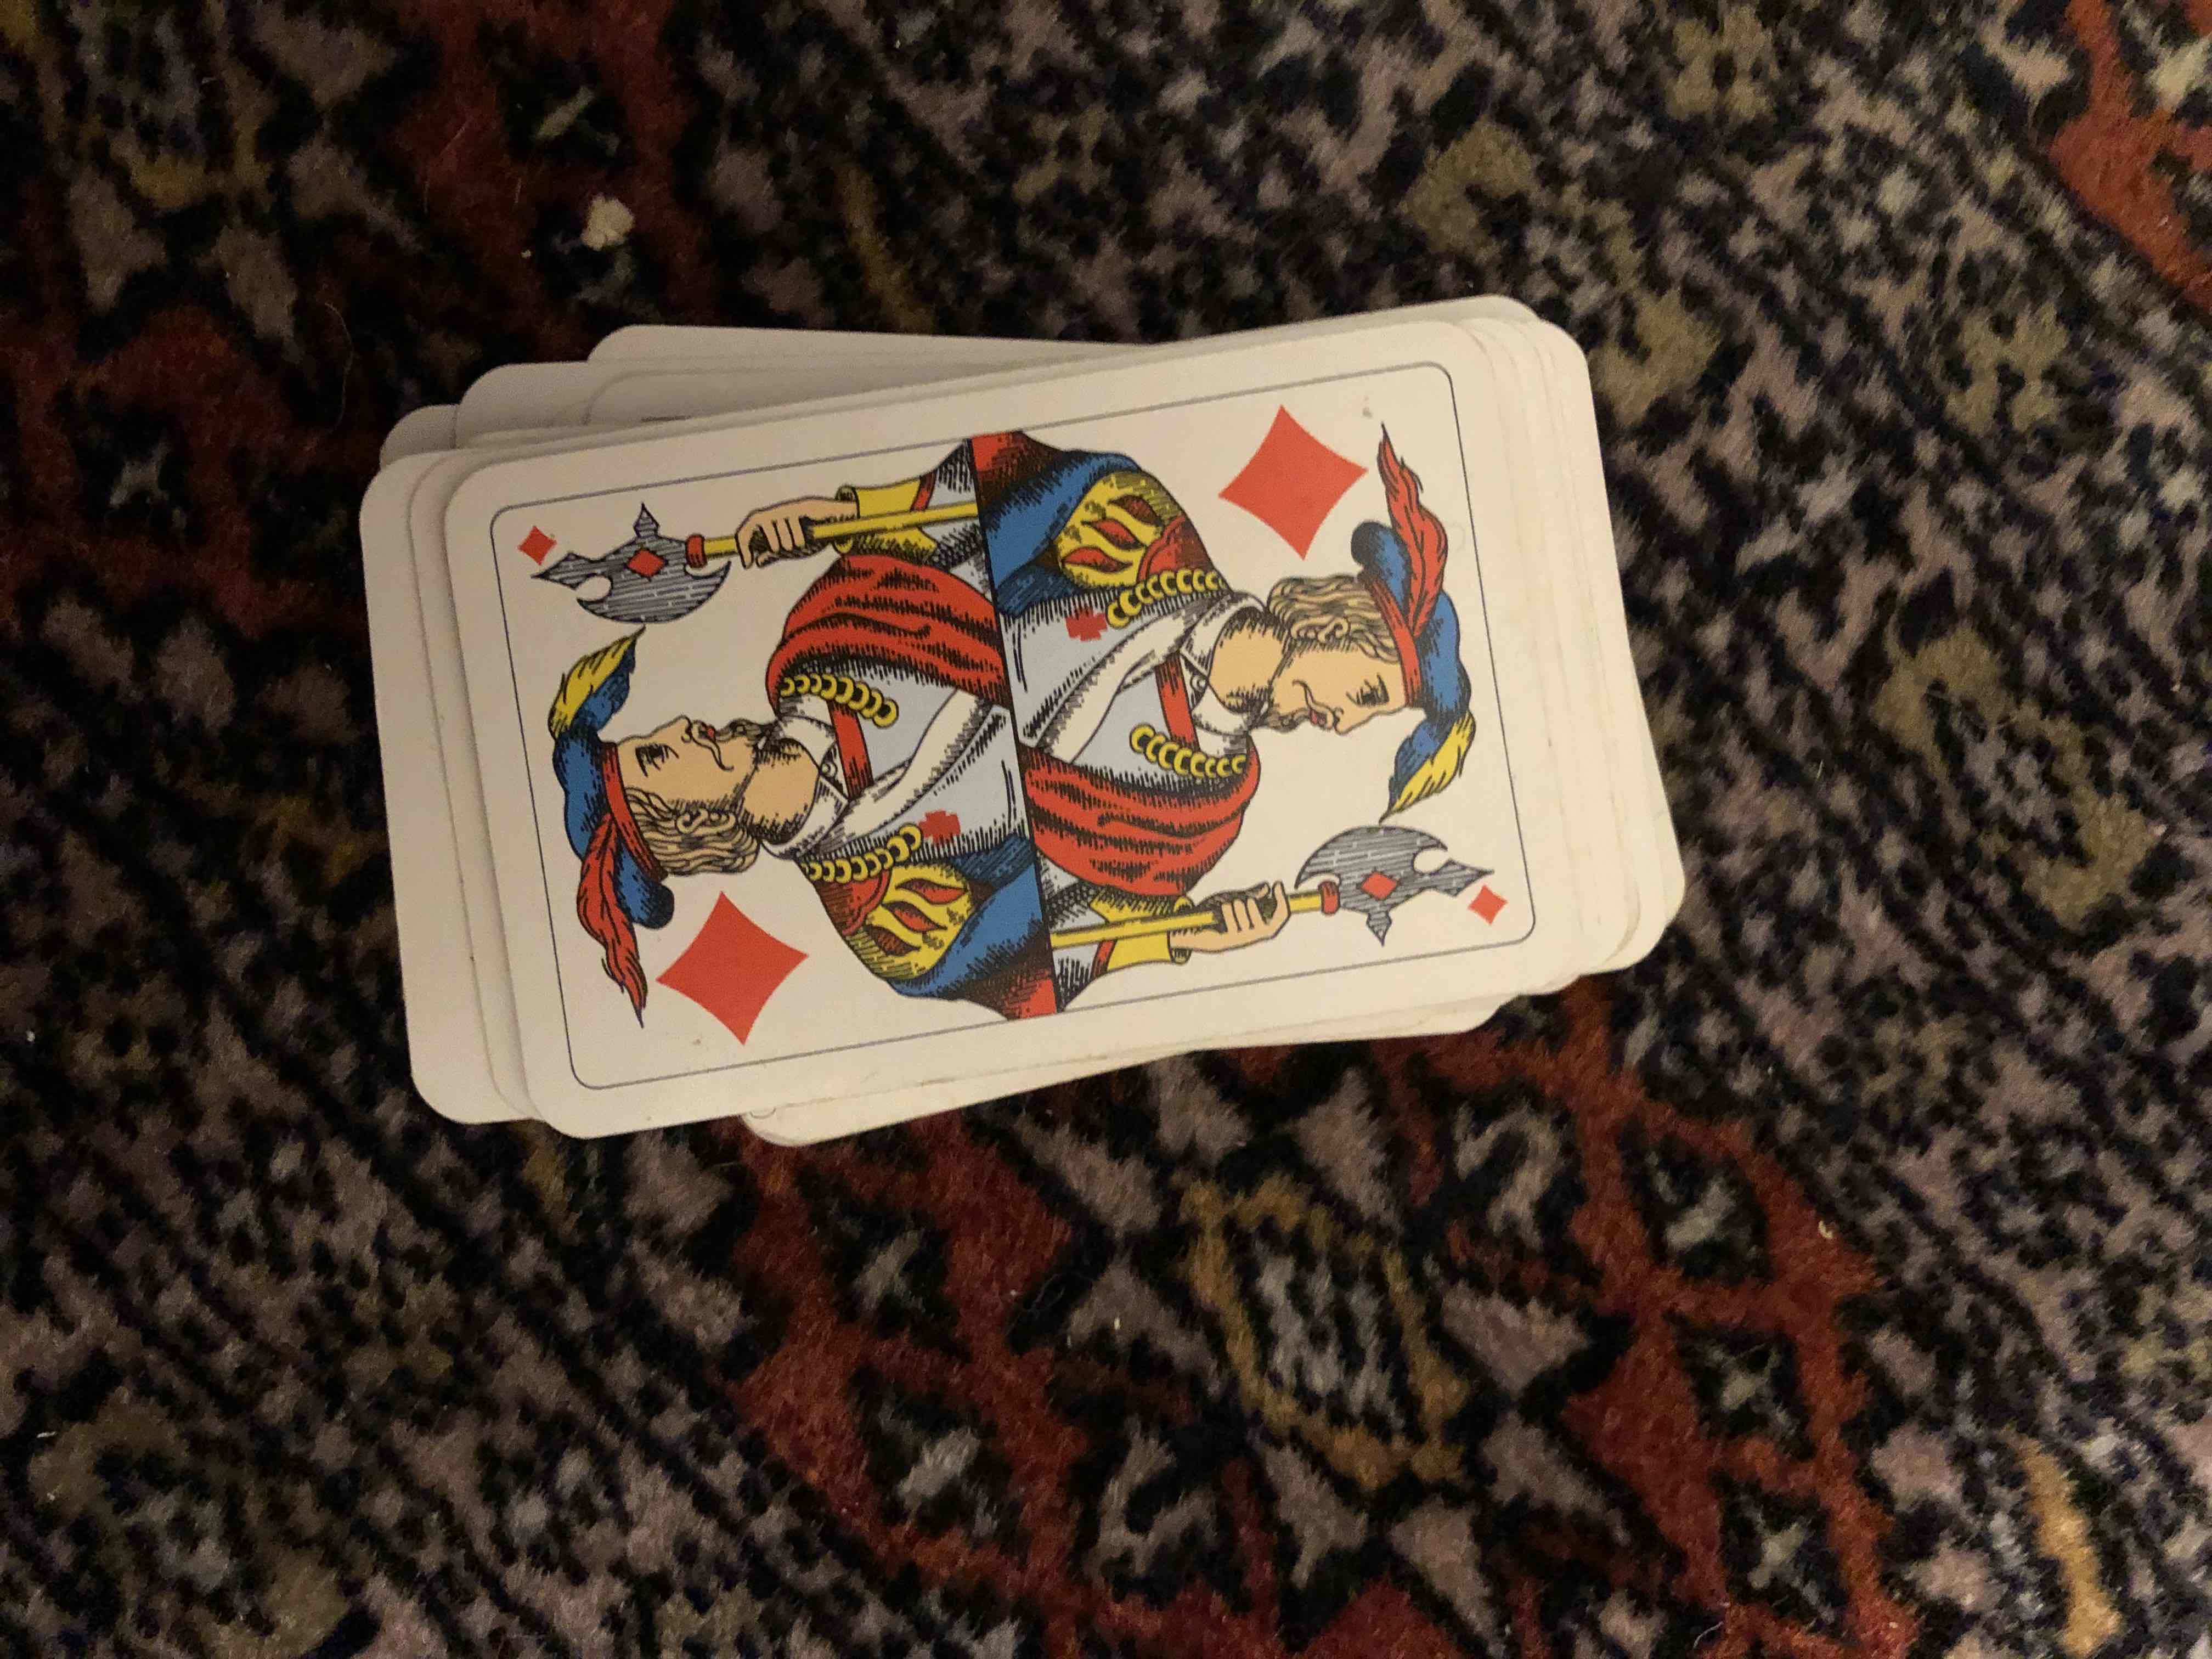diamondJack: (446, 369, 1601, 1028)
